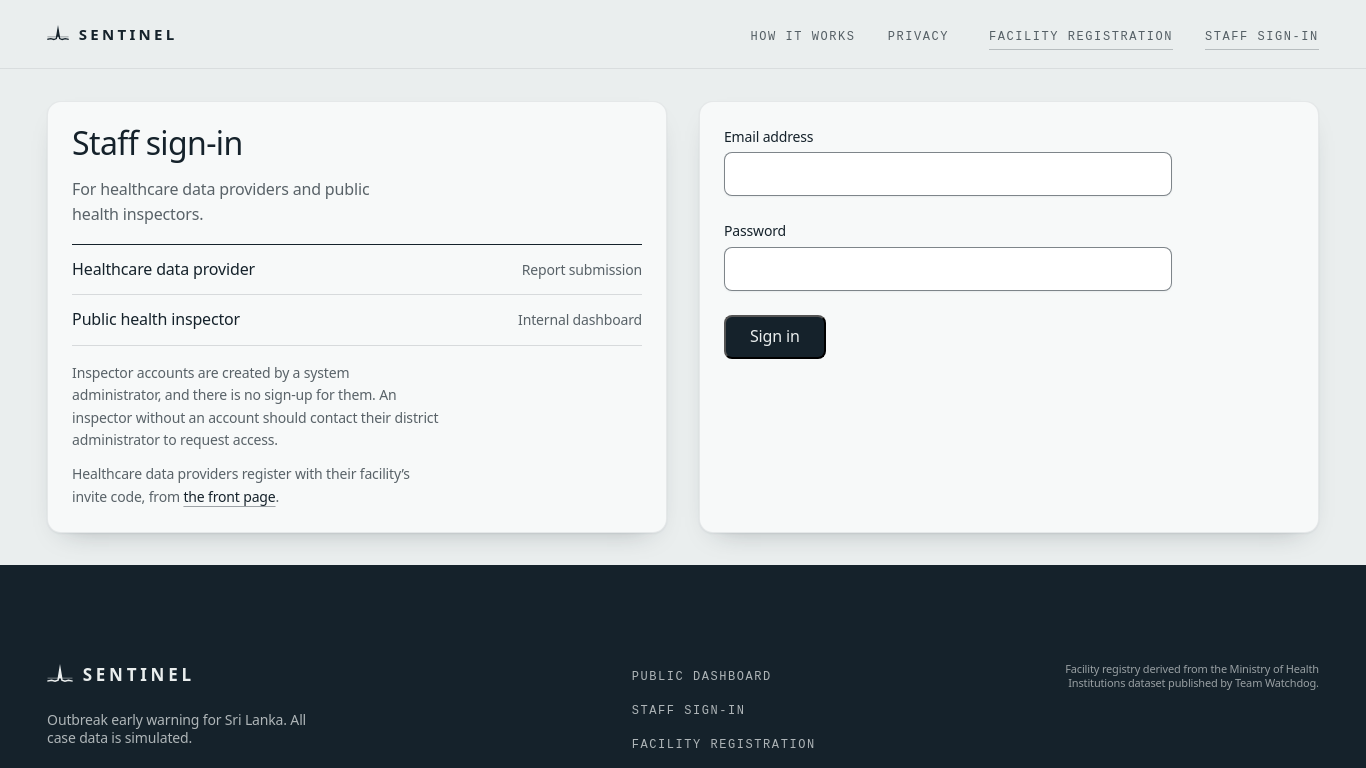
Test case: SignInPage › says why sign-in was refused, in the API’s words
The image size is (1366, 768).
Type "phi@example.org" into the field labelled "Email address".
click(948, 174); type("phi@example.org")  # box [724,152,1172,196]
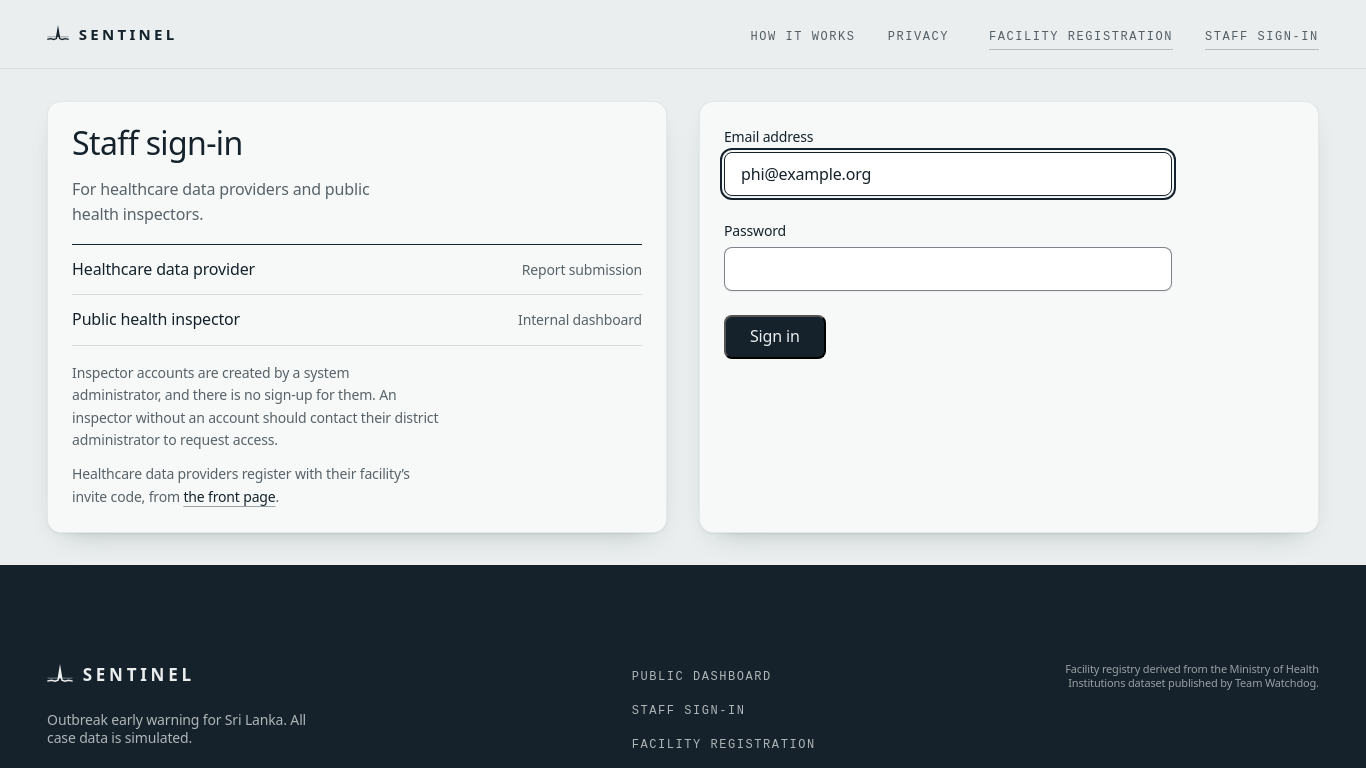
Type "a wrong password" into the password field labelled "Password".
click(948, 269); type("a wrong password")  # box [724,247,1172,291]
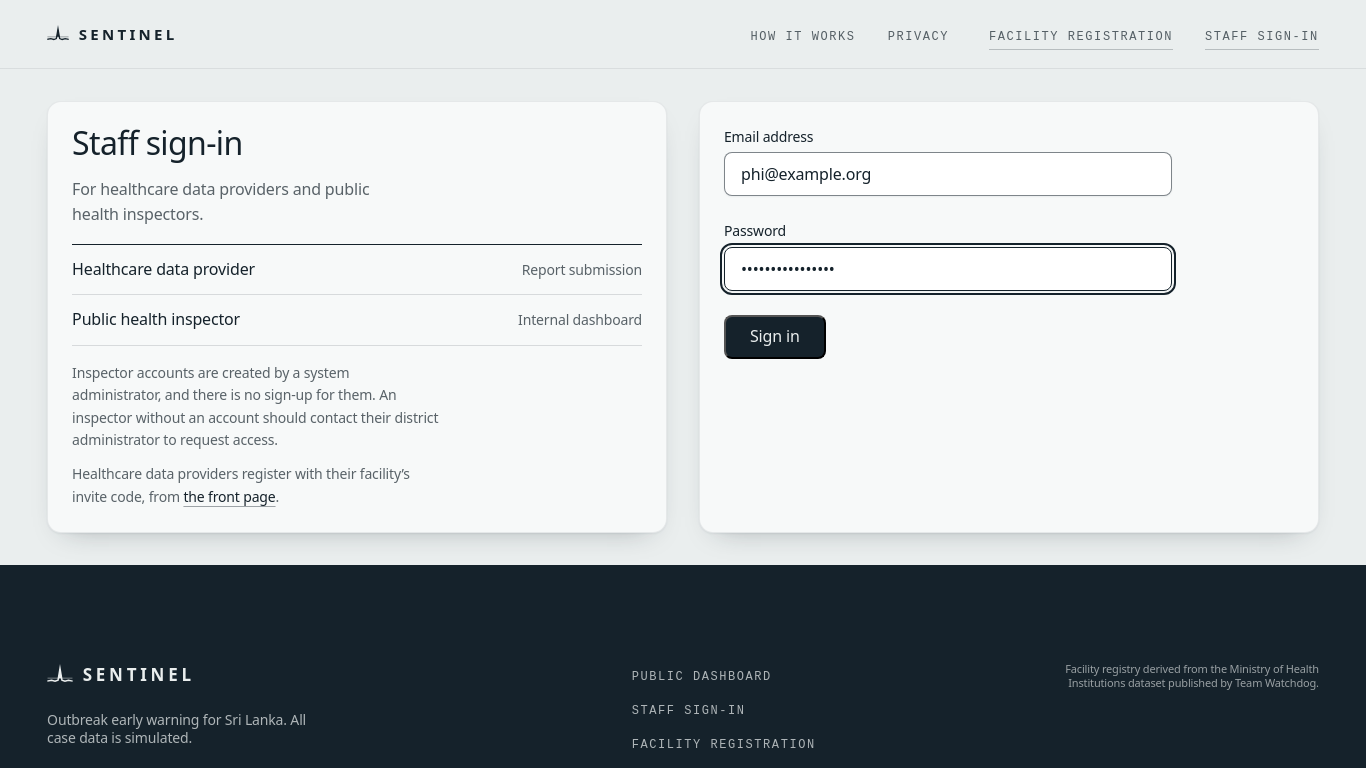
Click the button "Sign in".
click(775, 337)  # box [724,315,826,359]
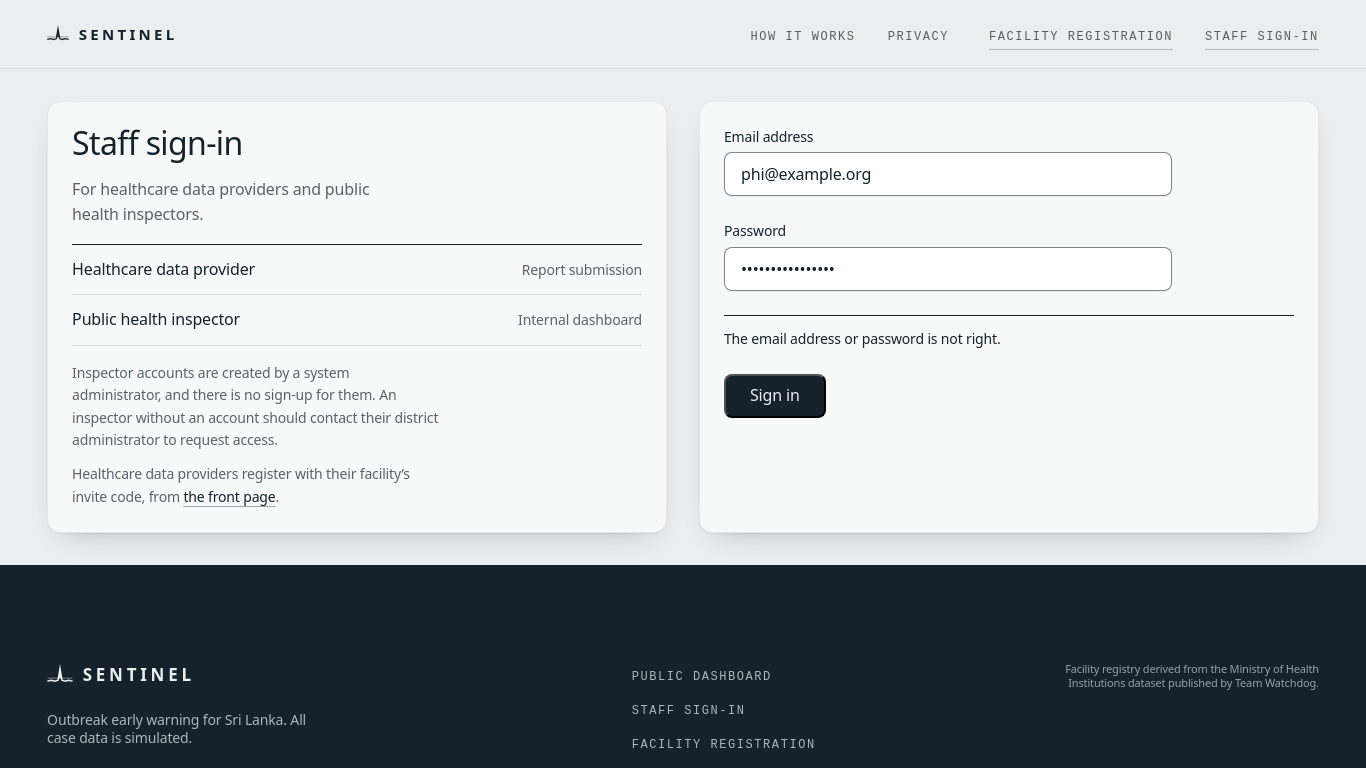
Now the message reads "The email address or password is not right.", box [724,329,1001,348]
